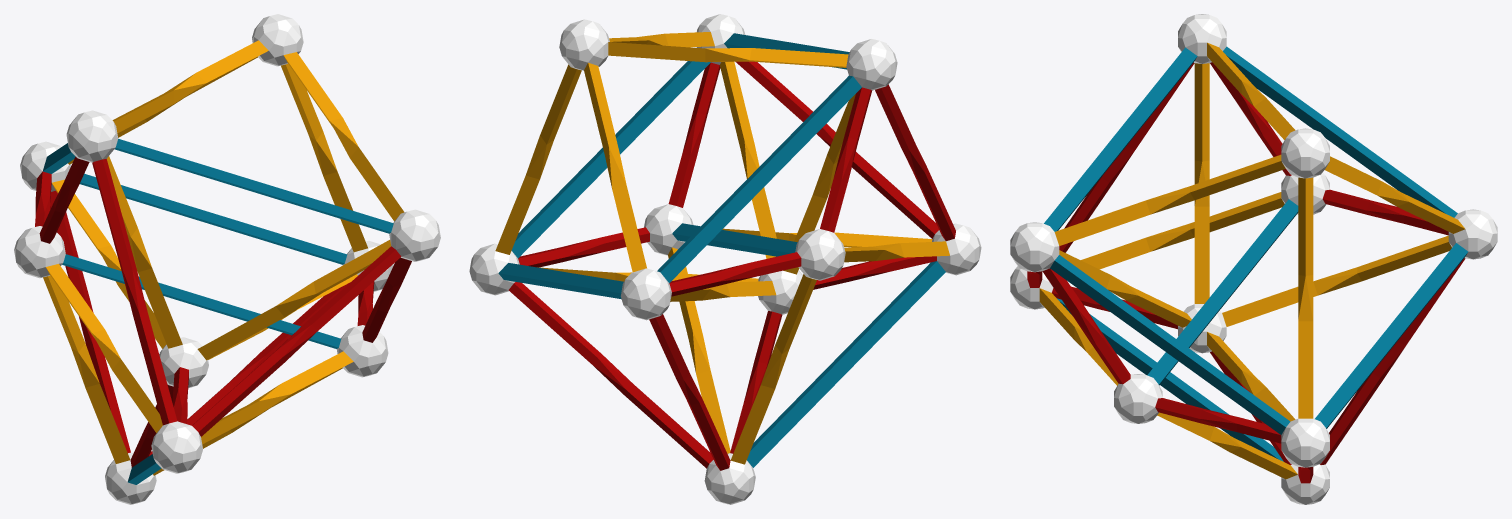
3 views of the same model, side by side, from view 1: azimuth 30°, elevation 25°; view 2: azimuth 150°, elevation 25°; view 3: azimuth 270°, elevation 25° (orthographic).
Parts seen in each view (by area): view 1: instance32, instance4, instance12, instance0, instance21, instance25, instance29, instance27, instance11, instance34, instance2, instance26 (+22 smaller); view 2: instance37, instance13, instance15, instance7, instance26, instance19, instance4, instance29, instance21, instance32, instance6, instance0 (+26 smaller); view 3: instance15, instance37, instance29, instance27, instance25, instance12, instance2, instance28, instance34, instance11, instance13, instance6 (+22 smaller).
Part boxes in pixels (x1,y1,x2,y2): instance32: (92, 159, 177, 425); instance4: (192, 246, 401, 436); instance12: (114, 139, 393, 233); instance0: (197, 240, 390, 360); instance21: (43, 275, 130, 463); instance25: (80, 173, 347, 264); instance29: (281, 64, 367, 252); instance27: (283, 52, 404, 221); instance11: (46, 264, 162, 432); instance34: (62, 254, 341, 348); instance2: (107, 156, 182, 348); instance26: (112, 40, 268, 133); instance37: (657, 75, 861, 283); instance13: (747, 261, 945, 467); instance15: (511, 61, 710, 258); instance7: (508, 282, 713, 468); instance26: (608, 42, 848, 67); instance19: (584, 62, 646, 272); instance4: (735, 61, 938, 238); instance29: (495, 64, 581, 254); instance21: (730, 274, 816, 464); instance32: (875, 84, 955, 241); instance6: (649, 314, 730, 470); instance0: (719, 62, 776, 258); instance15: (1050, 255, 1290, 434); instance37: (1223, 46, 1457, 217); instance29: (1298, 177, 1313, 418); instance27: (1054, 154, 1285, 245); instance25: (1315, 243, 1468, 428); instance12: (1044, 47, 1197, 231); instance2: (1194, 63, 1209, 303); instance28: (1222, 235, 1451, 326); instance34: (1147, 199, 1298, 385); instance11: (1081, 192, 1284, 269); instance13: (1057, 298, 1283, 461); instance6: (1320, 258, 1465, 464).
Bounding box in the file's own units: 17.33 × 19.94 × 19.94.
